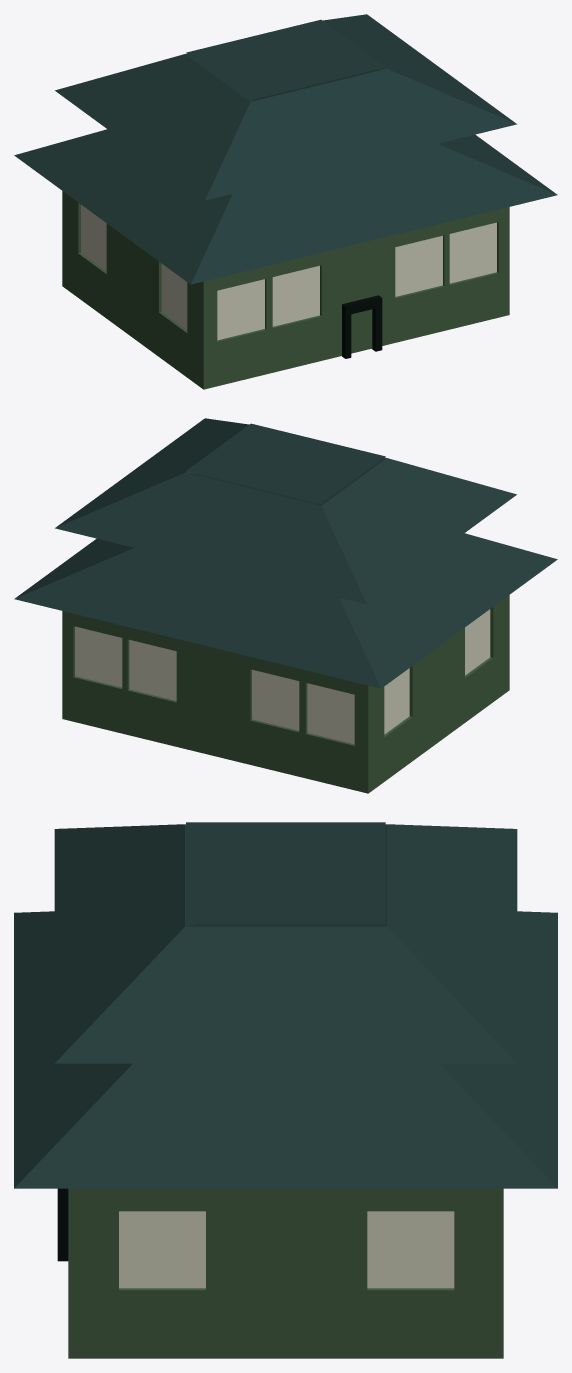
File: house-v4.obj
3 renders of one model, top to bottom at view 1: azimuth 30°, elevation 25°; view 2: azimuth 150°, elevation 25°; view 3: azimuth 270°, elevation 25°, orthographic. The views are drawn at different scales.
Parts seen in each view (by area): view 1: Cube.001, Cube_Cube.002, Plane, door_Cube.004; view 2: Cube.001, Cube_Cube.002, Plane; view 3: Cube.001, Cube_Cube.002, Plane, door_Cube.004.
Boxes of the visible parts, <box> form: Cube.001: <box>14,14,557,284</box>; Cube_Cube.002: <box>62,191,509,389</box>; Plane: <box>186,19,385,99</box>; door_Cube.004: <box>342,295,382,358</box>; Cube.001: <box>14,418,557,688</box>; Cube_Cube.002: <box>62,595,509,793</box>; Plane: <box>186,423,385,503</box>; Cube.001: <box>14,824,557,1188</box>; Cube_Cube.002: <box>68,1188,503,1358</box>; Plane: <box>186,822,385,923</box>; door_Cube.004: <box>57,1188,68,1261</box>.
Size of the model in its own units: 12 by 7.54 by 10.
